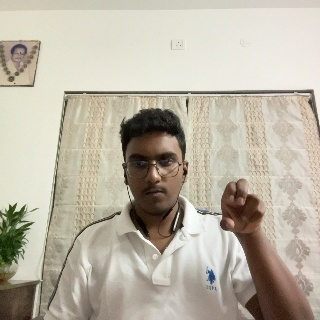Face: (120, 112, 189, 212)
No: (221, 178, 268, 257)
